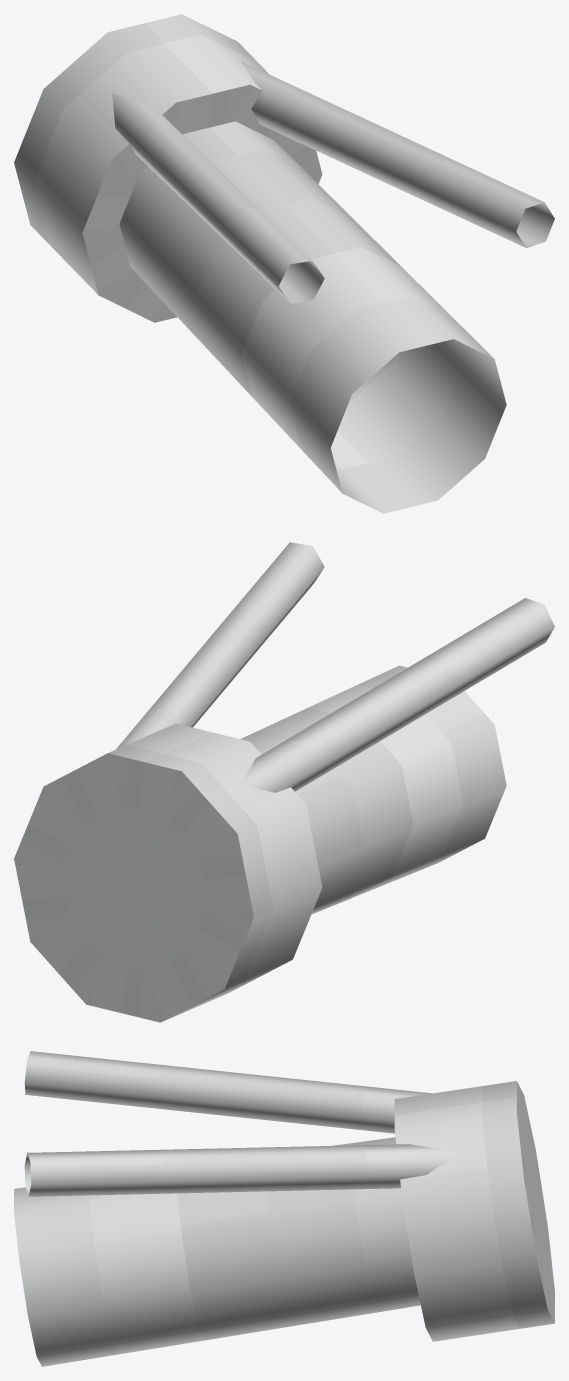
Rendered from nycsignalarm_regular4_c5.obj.
3 renders of one model, top to bottom at view 1: azimuth 30°, elevation 25°; view 2: azimuth 150°, elevation 25°; view 3: azimuth 270°, elevation 25°, orthographic. The views are drawn at different scales.
Visible parts, largest first — view 1: nycsignalarm_regular4_c5; view 2: nycsignalarm_regular4_c5; view 3: nycsignalarm_regular4_c5.
Boxes of the visible parts, <box> form: nycsignalarm_regular4_c5: <box>14,14,554,513</box>; nycsignalarm_regular4_c5: <box>14,542,554,1022</box>; nycsignalarm_regular4_c5: <box>14,1051,554,1366</box>.
Bounding box in the file's own units: 0.4028 × 0.4027 × 0.7655.
